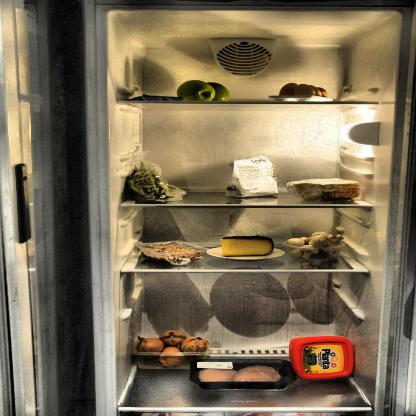apple: (176, 80, 233, 102)
butter: (289, 336, 358, 380)
cheese: (218, 234, 275, 259)
chicken: (198, 362, 286, 387)
chocolate: (128, 94, 183, 103)
eggs: (276, 80, 334, 101)
green_beans: (118, 159, 180, 205)
mushrooms: (284, 230, 344, 260)
potato: (132, 330, 213, 375)
shrimp: (141, 243, 205, 264)
